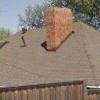Chimney: (37, 2, 82, 56)
